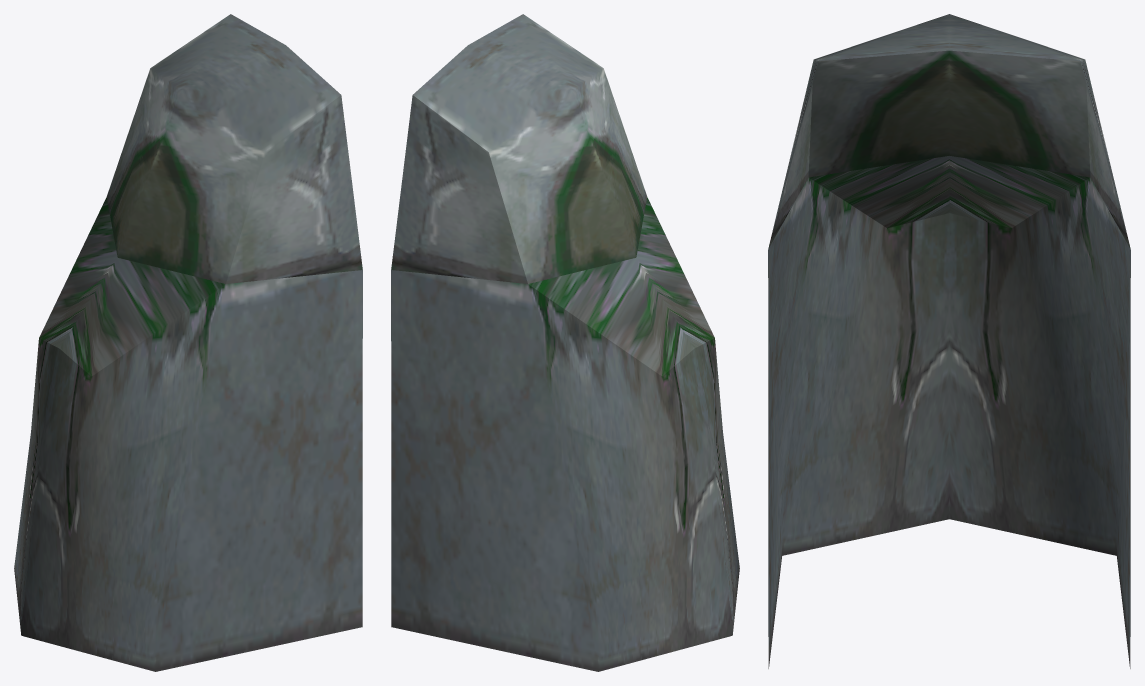
Rendered from stemple_wall_transition_08.fbx.
The picture shows the model from 3 angles, left to right: view 1: azimuth 30°, elevation 25°; view 2: azimuth 150°, elevation 25°; view 3: azimuth 270°, elevation 25°; orthographic projection. The views are drawn at different scales.
Visible parts, largest first — view 1: stemple_wall_transition_08-0; view 2: stemple_wall_transition_08-0; view 3: stemple_wall_transition_08-0.
Part boxes in pixels (x1,y1,x2,y2): stemple_wall_transition_08-0: [14, 14, 362, 671]; stemple_wall_transition_08-0: [391, 14, 739, 671]; stemple_wall_transition_08-0: [768, 14, 1130, 668].
Size of the model in its own units: 0.8302 by 1.57 by 0.8328.
